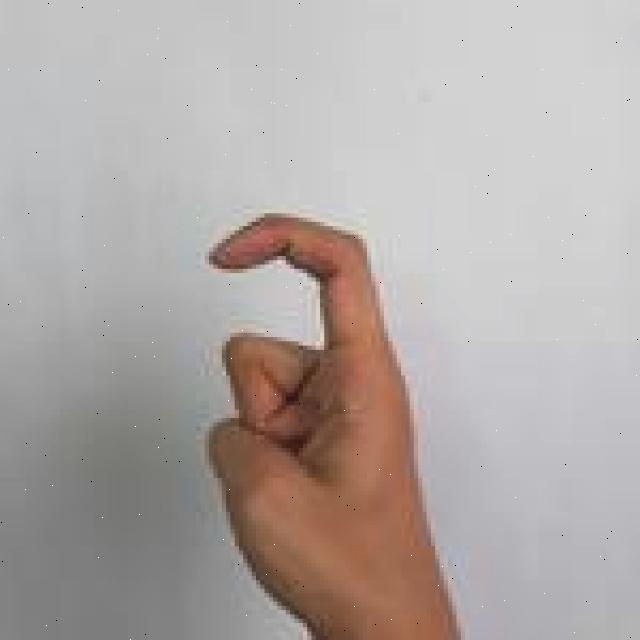X: (197, 208, 463, 640)
